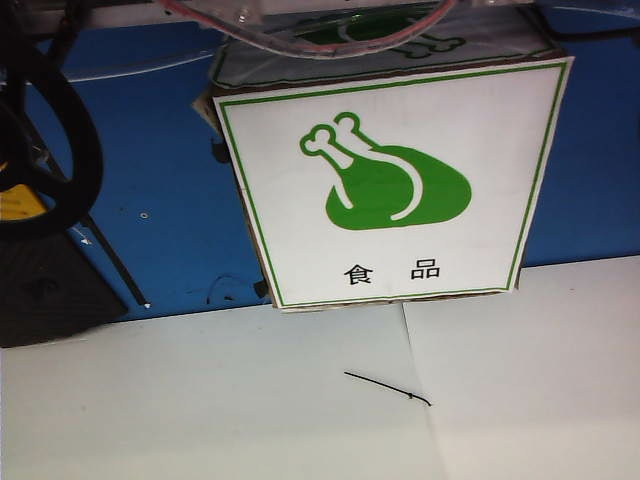Cube_food: (286, 106, 479, 289)
